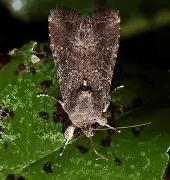army worm adult: (44, 8, 142, 157)
